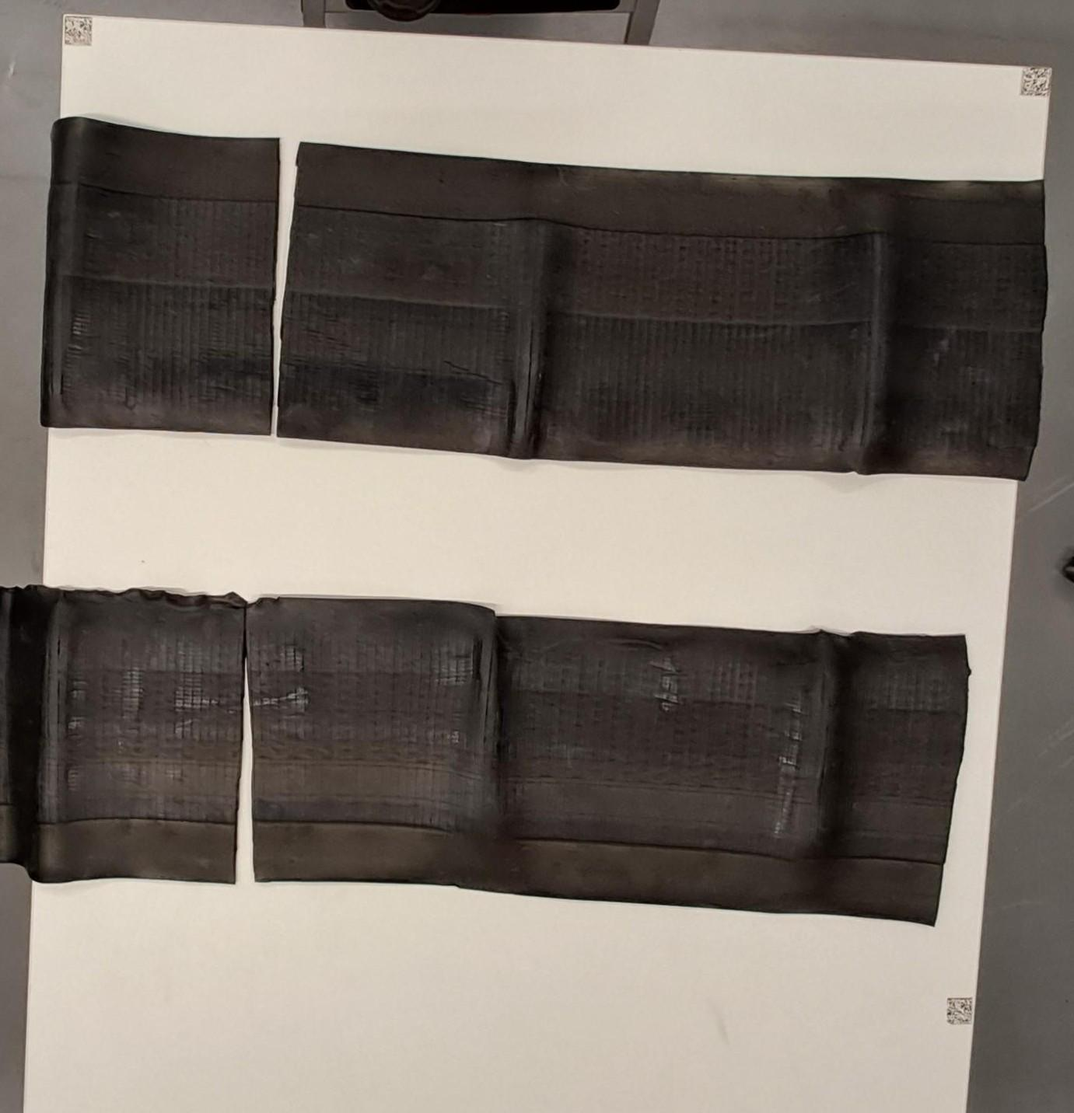cut_edge: (271, 138, 300, 436), (235, 621, 254, 883)
qr_code: (1019, 66, 1051, 96), (65, 16, 93, 46), (946, 997, 972, 1024)
